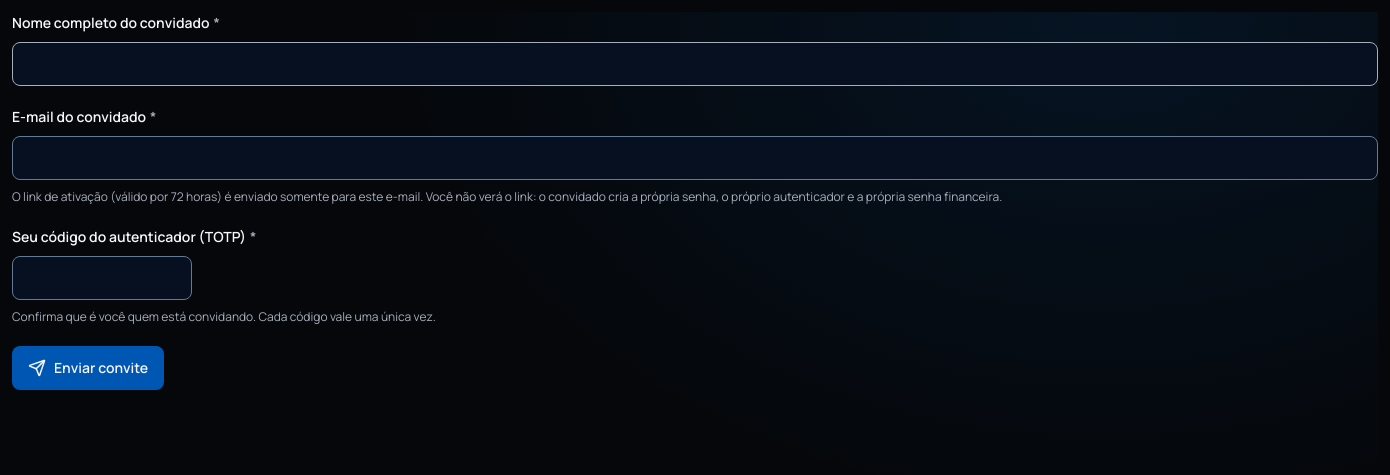
formulário de convite › 409 de convite pendente/assentos cheios aparece como mensagem do servidor
The width and height of the screenshot is (1390, 475).
Type "Maria Souza" into the field labelled "Nome completo do convidado*" at (695, 64), box [12,42,1378,86]
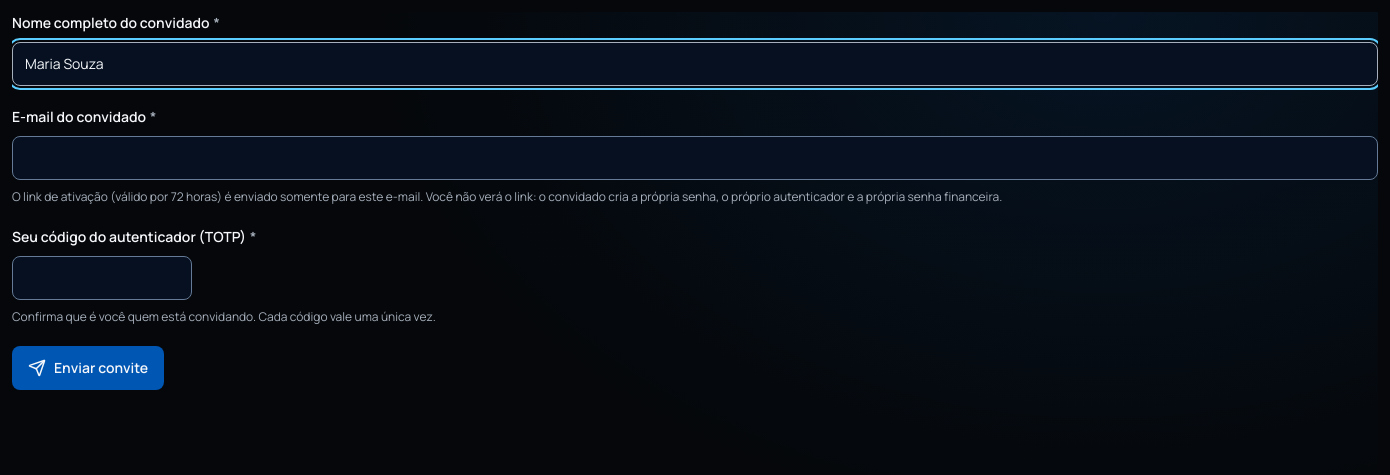
Type "maria@rd.invalid" into the field labelled "E-mail do convidado*" at (695, 158), box [12,136,1378,180]
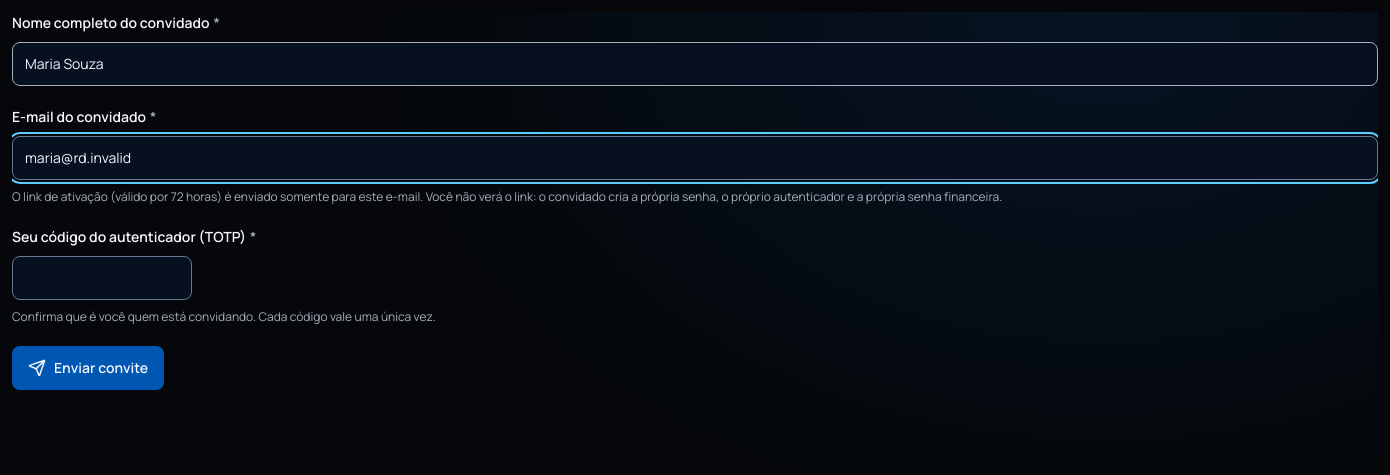
Type "123456" into the field labelled "Seu código do autenticador (TOTP)*" at (102, 278), box [12,256,192,300]
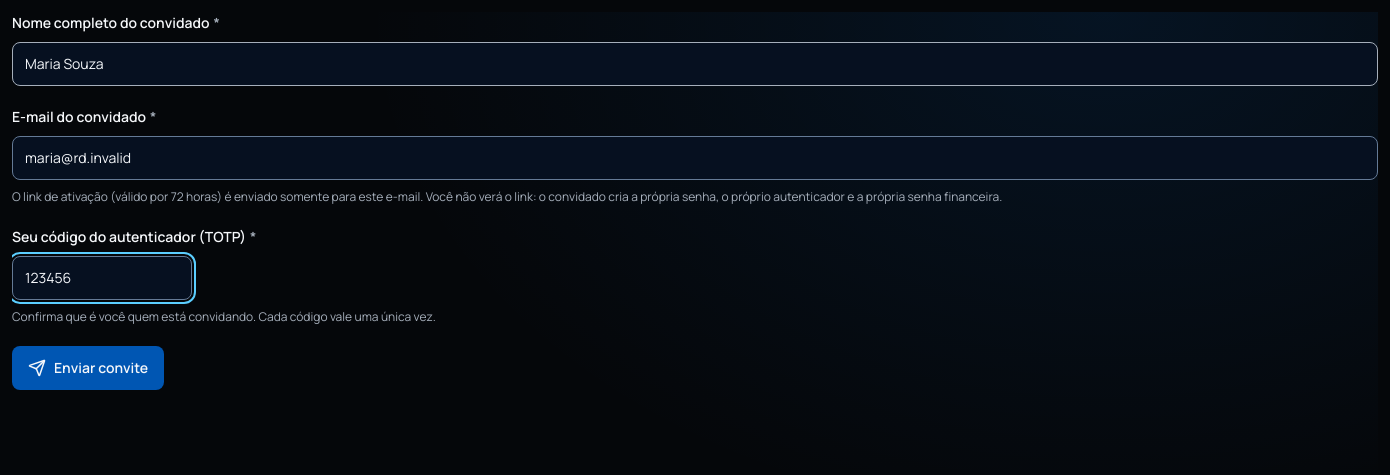
Click the button "Enviar convite" at (88, 368), box [12,346,164,390]
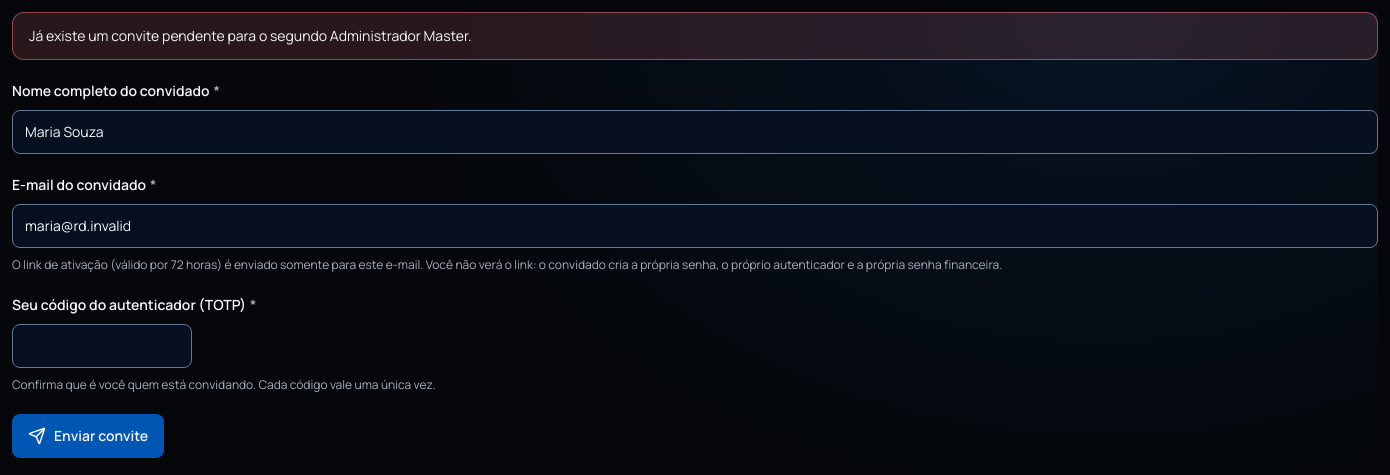
Now the message reads "Já existe um convite pendente para o segundo Administrador Master.", box [29,26,472,45]
